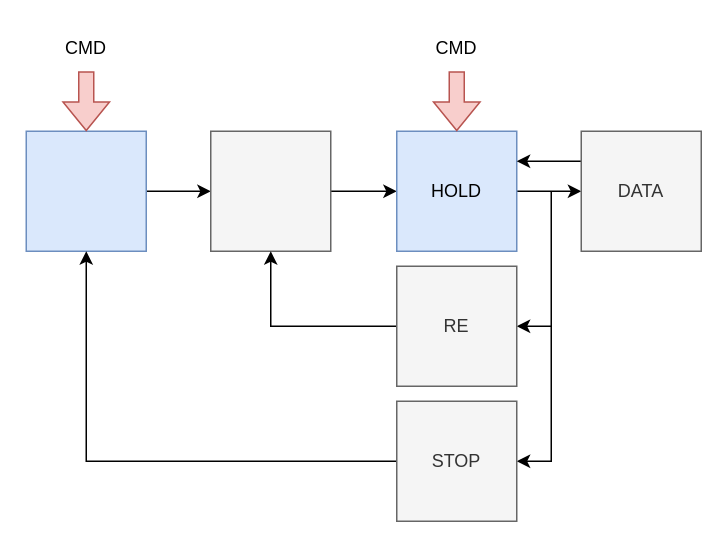
The diagram is 728 pixels wide and 548 high, and some of its shapes have lost their labels. Here are the shapes that lost their labels. From the top down, the centre of each, then its label:
At point 85,190: "IDLE".
At point 270,190: "START".
